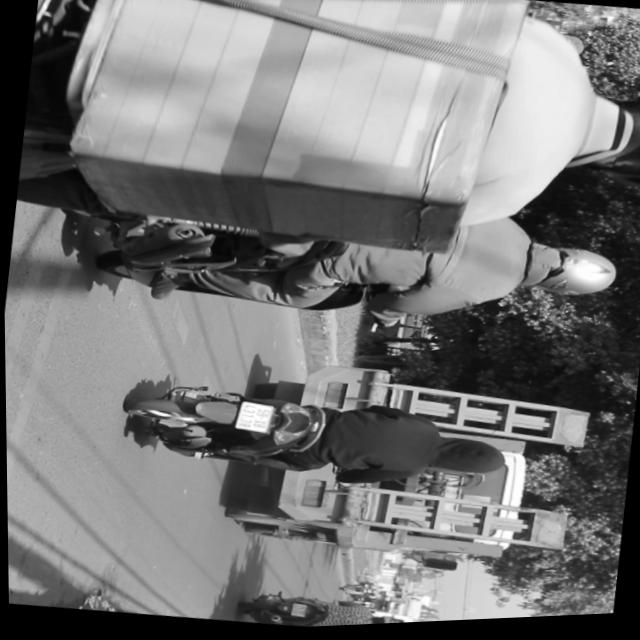helmet: (576, 90, 640, 196), (523, 241, 622, 308), (429, 435, 505, 485)
licenseplate: (11, 0, 640, 286), (49, 163, 625, 367), (118, 362, 513, 510)
nohelmet: (233, 402, 272, 435)
